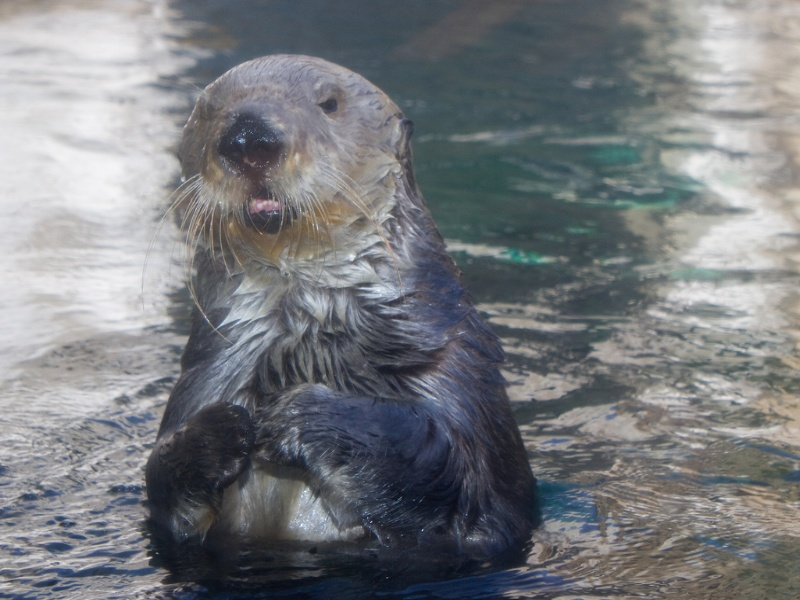minkish: (145, 51, 553, 556)
